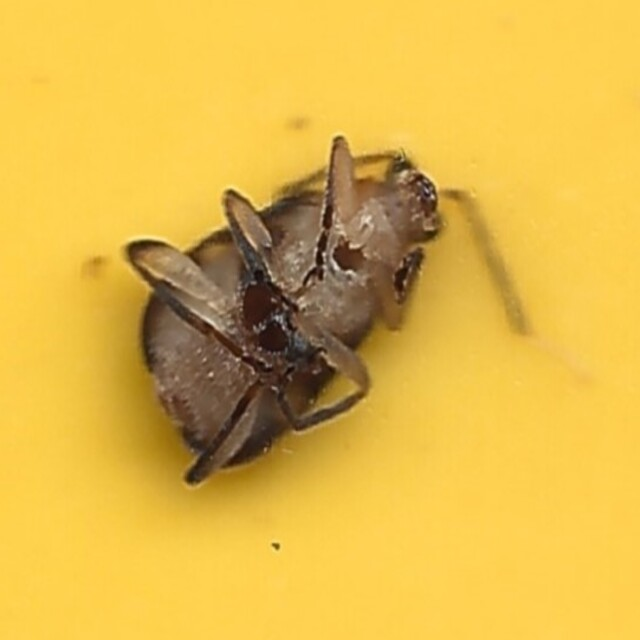Coleoptera: (118, 147, 522, 493)
